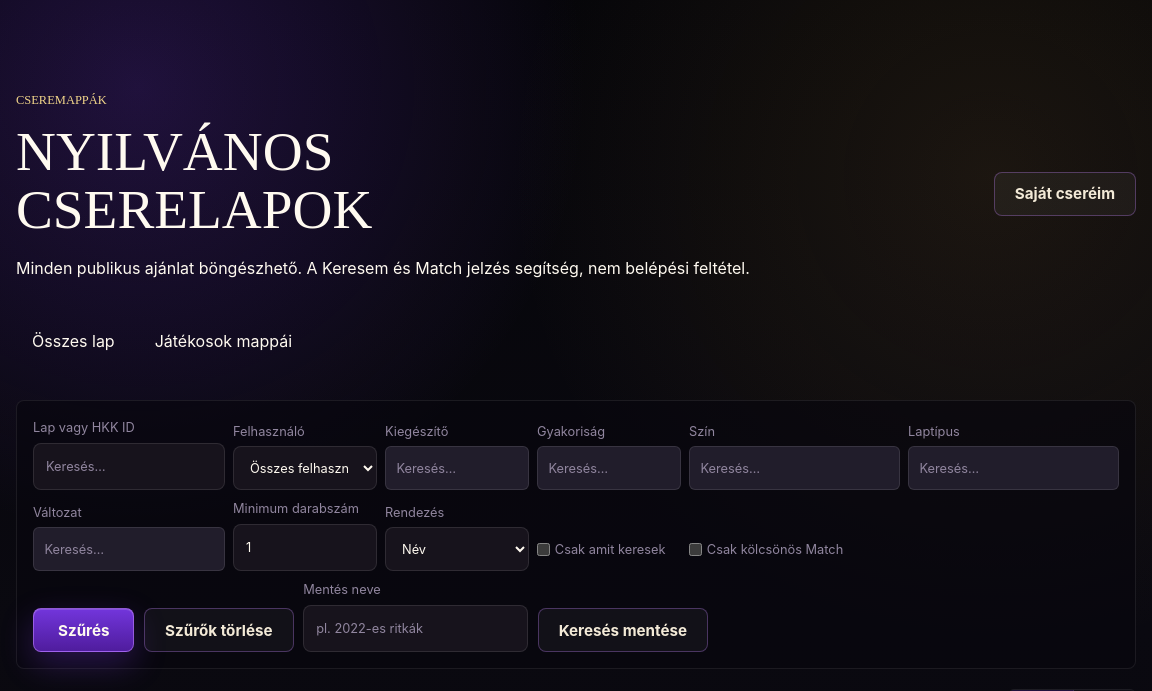
CommunityTradeBrowserPage › a mentett keresés átnevezhető natív prompt nélkül
This screenshot has width=1152, height=691.
Type "Ritka lapok" into the field labelled "Mentés neve" at (416, 629), box [303, 605, 528, 652]
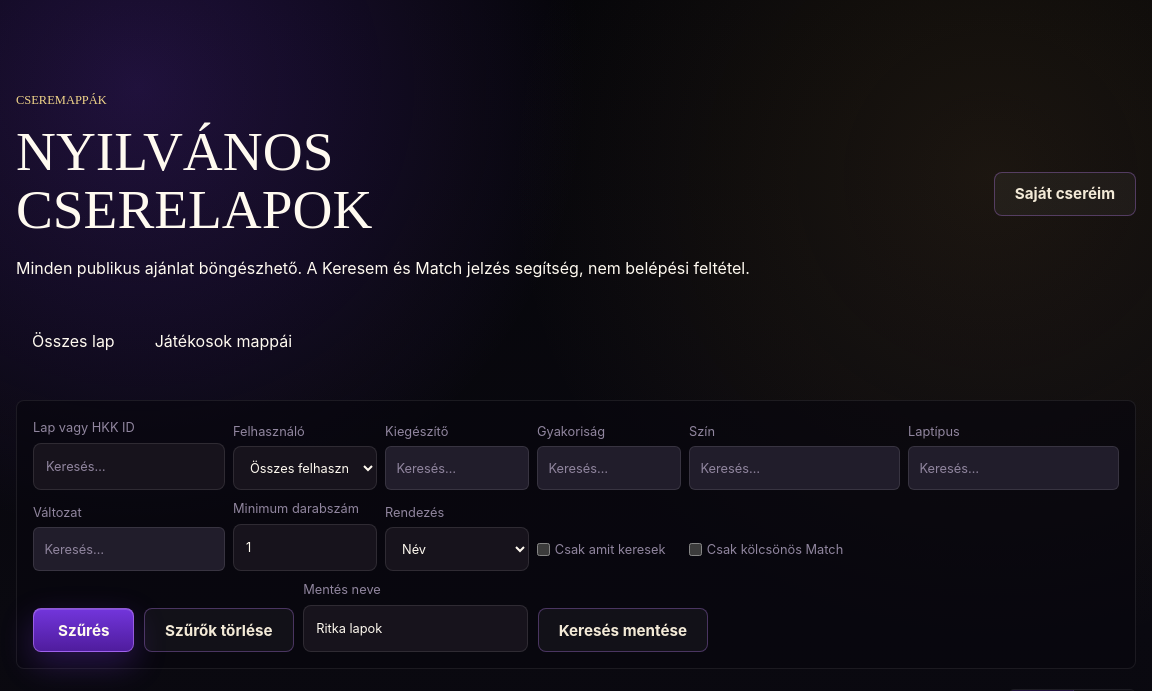
Click the button "Keresés mentése" at (623, 630), box [538, 608, 708, 652]
(page scrolled)
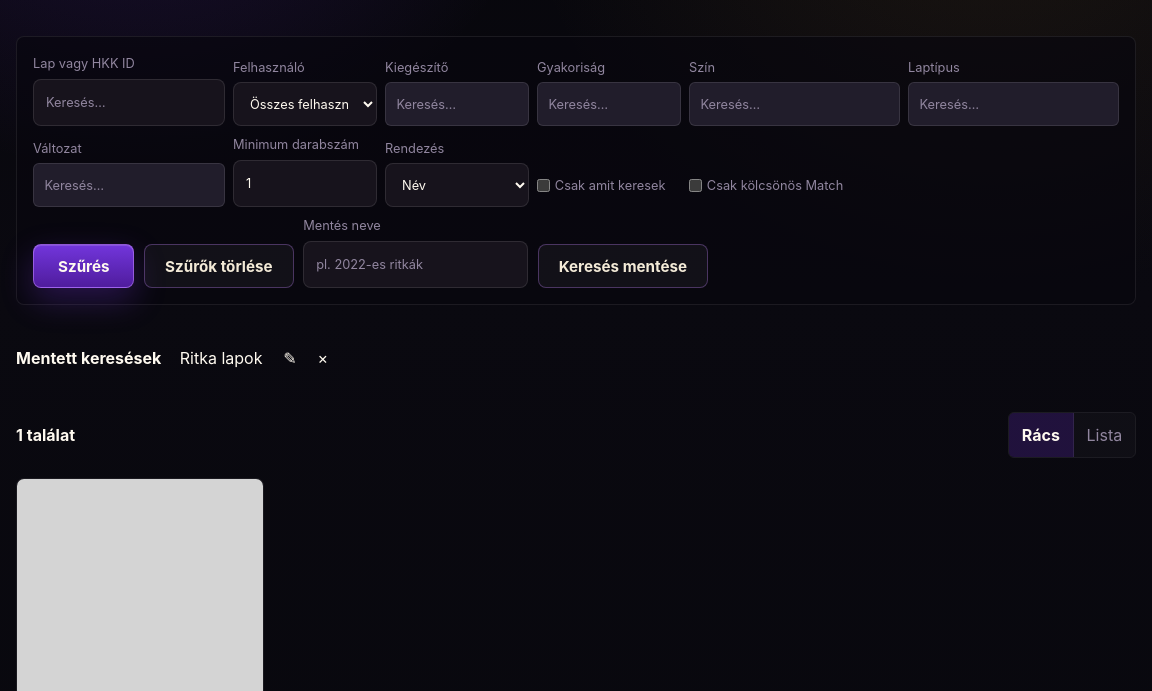
Click the button named "Ritka lapok átnevezése" at (290, 359), box [273, 338, 307, 379]
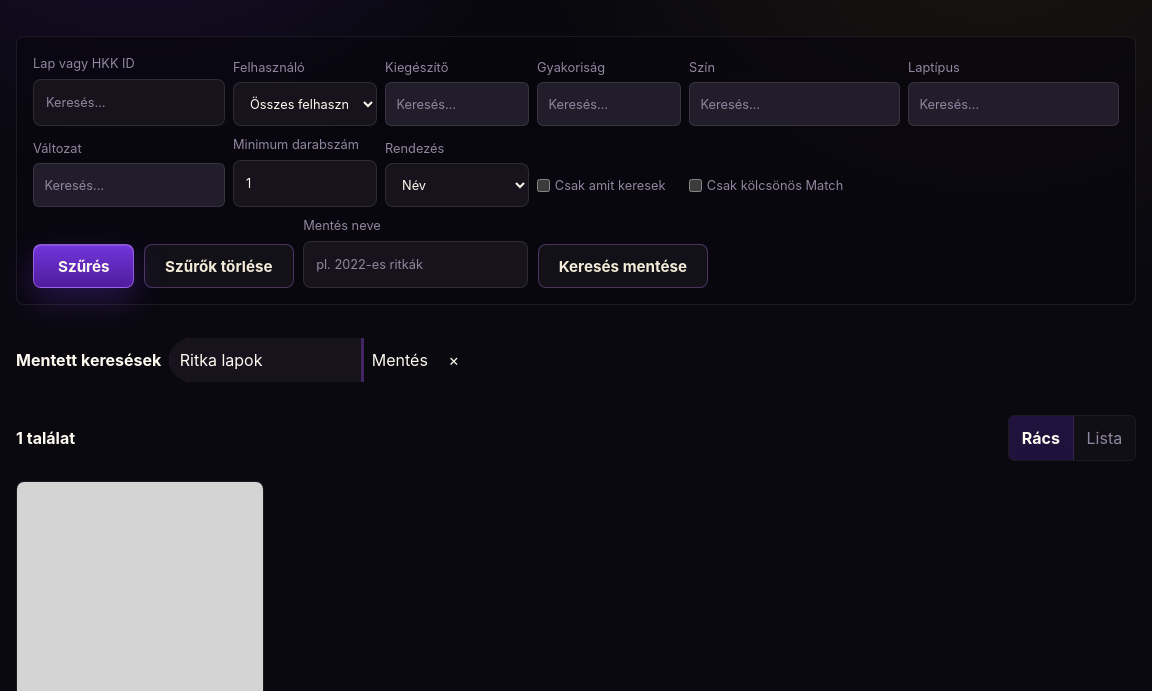
Replace the text in the field named "Ritka lapok új neve" with "2026-os ritkák" at (265, 360), box [169, 338, 361, 382]
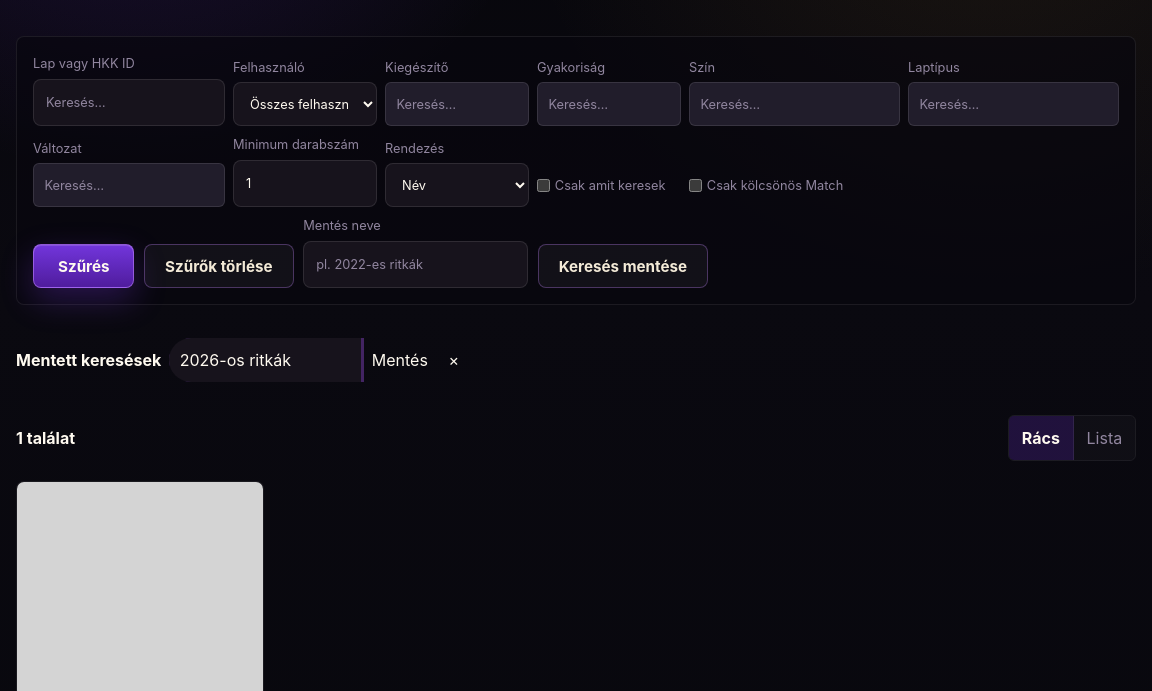
Click the button "Mentés" at (400, 360), box [361, 338, 438, 382]
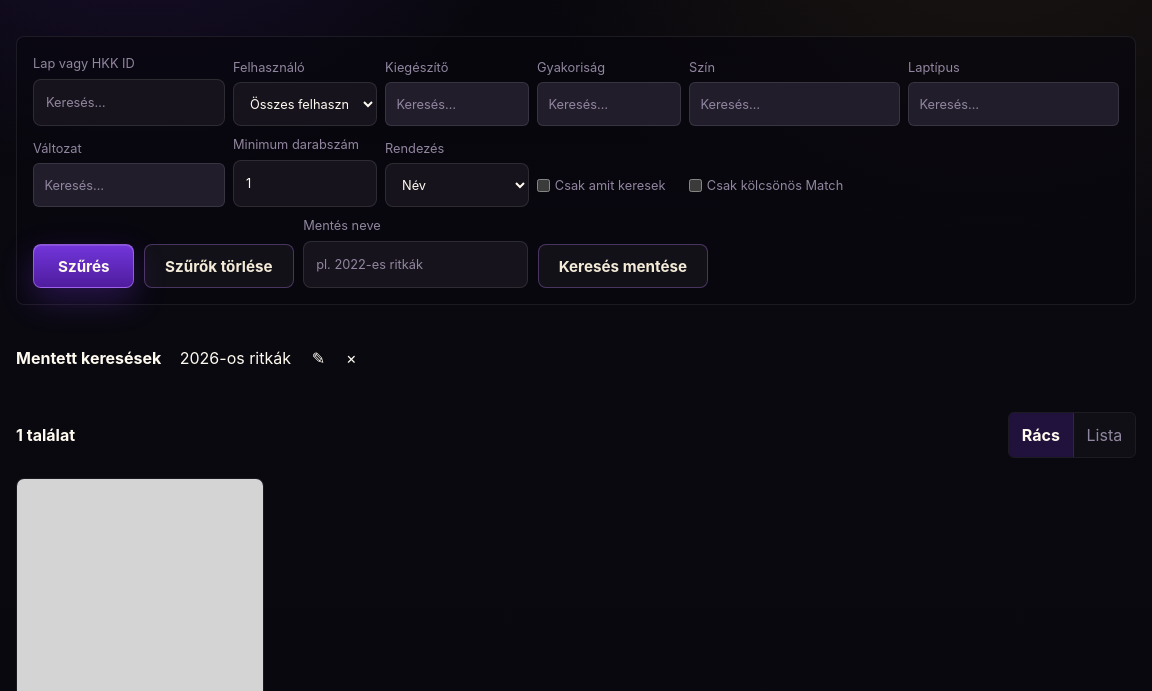
Result: the button "2026-os ritkák" is shown at [169, 338, 301, 379]
